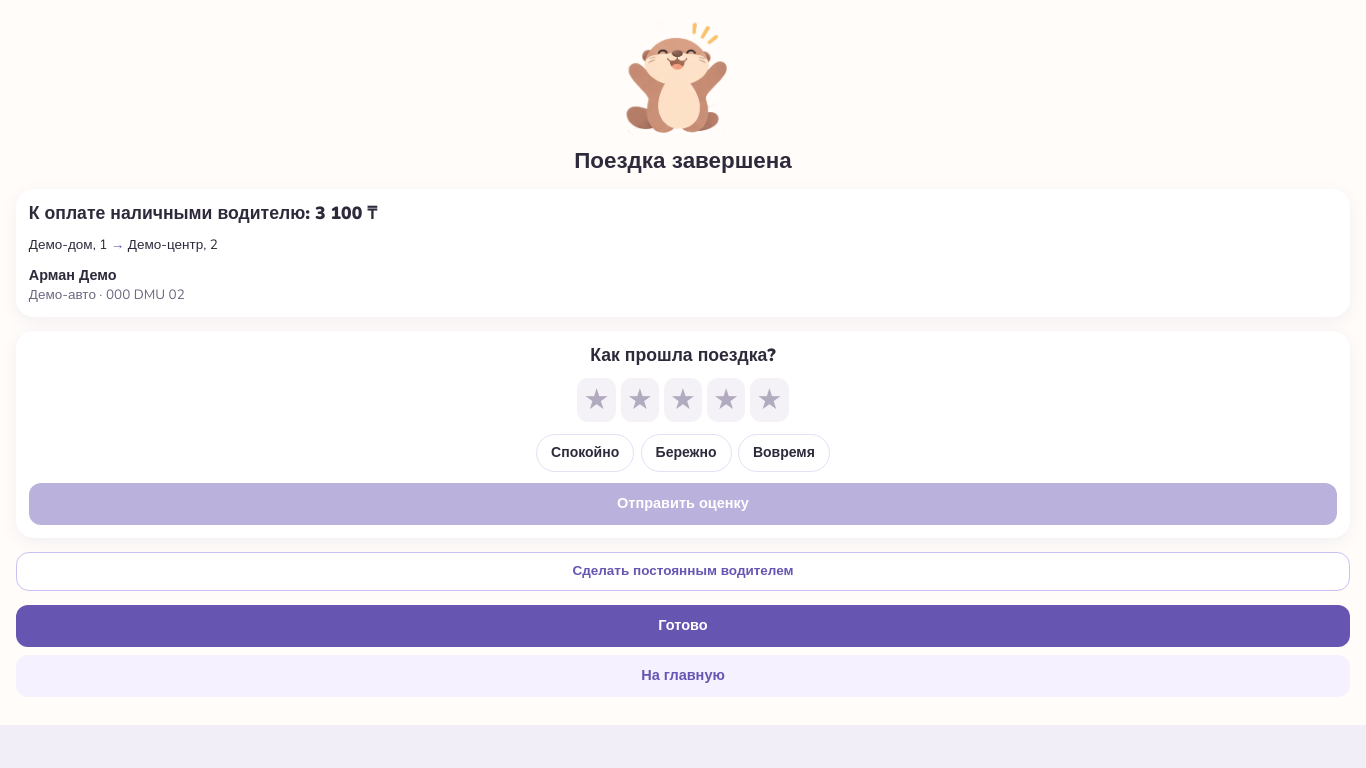
Test: completed trip and rating › sends selected stars and multiple tags, then thanks without form
This screenshot has width=1366, height=768.
Step 1. Click the button named "Оценка: 4 из 5" → [726, 400], box [707, 378, 745, 422]
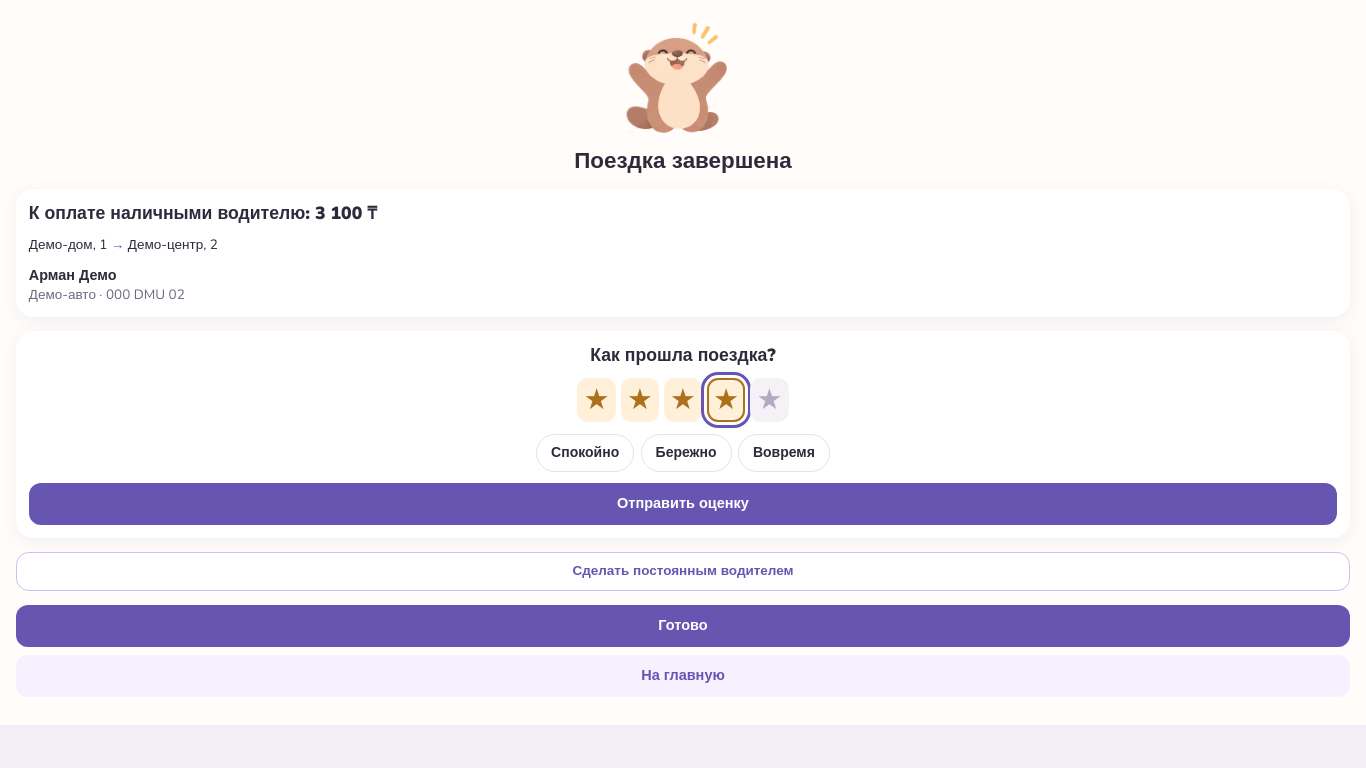
expect the button named "Оценка: 4 из 5" is pressed: met, box [707, 378, 745, 422]
Step 2. Click the button "Спокойно" → [585, 453], box [536, 434, 634, 472]
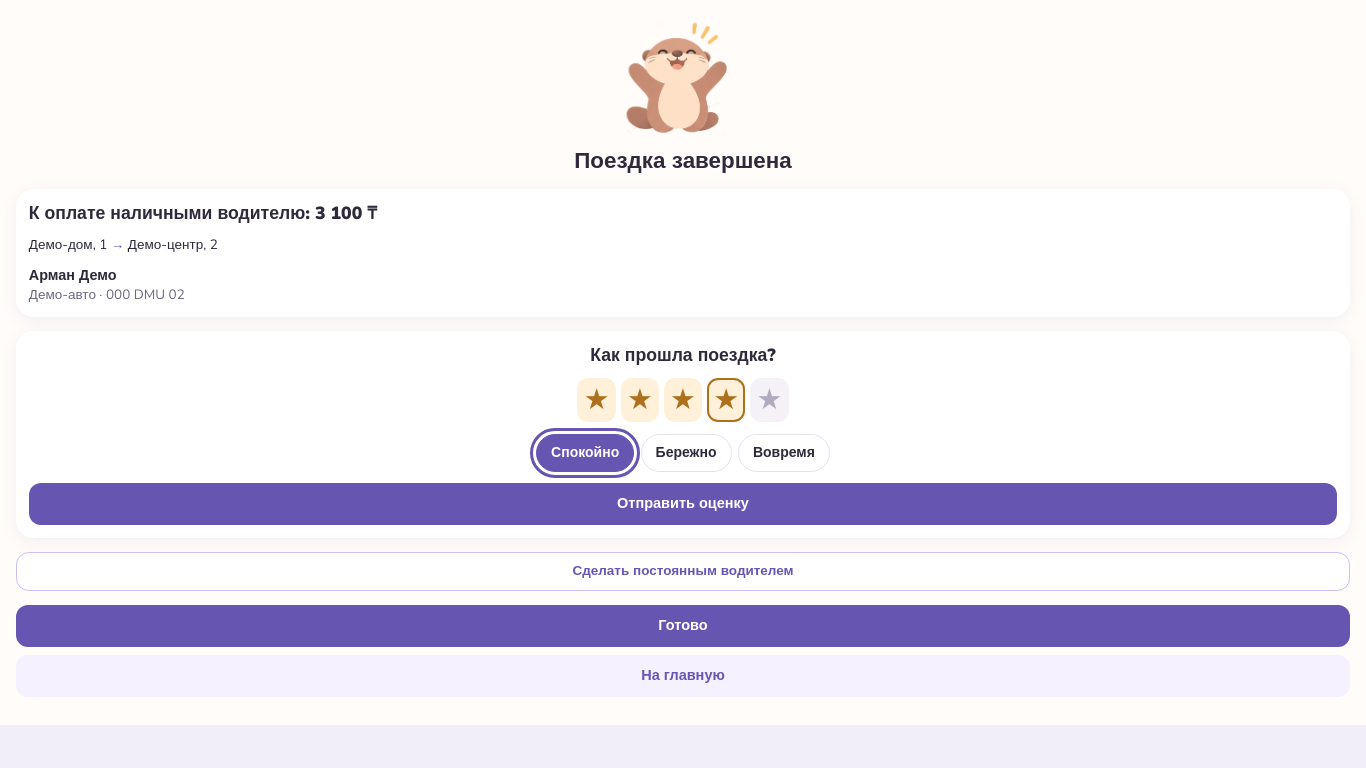
Step 3. Click the button "Бережно" → [686, 453], box [641, 434, 732, 472]
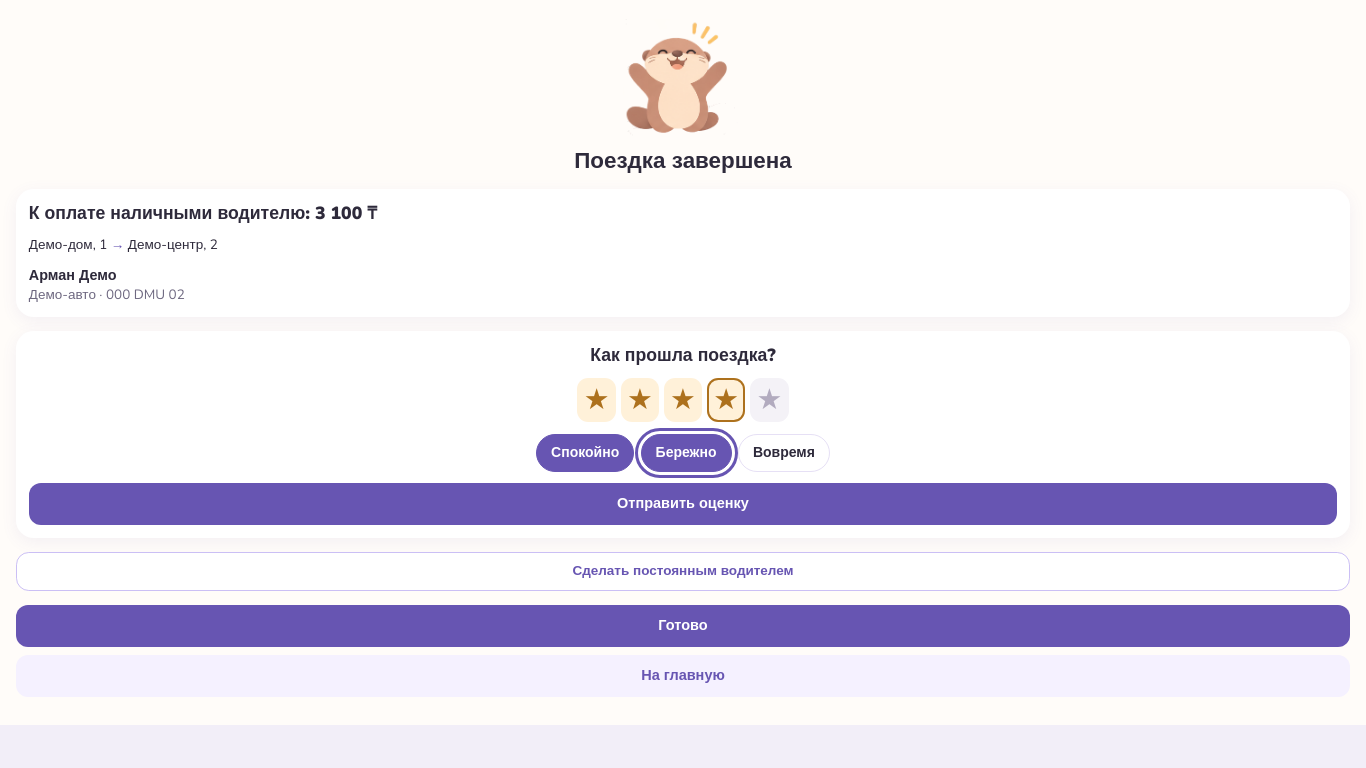
Step 4. Click the button "Вовремя" → [784, 453], box [738, 434, 830, 472]
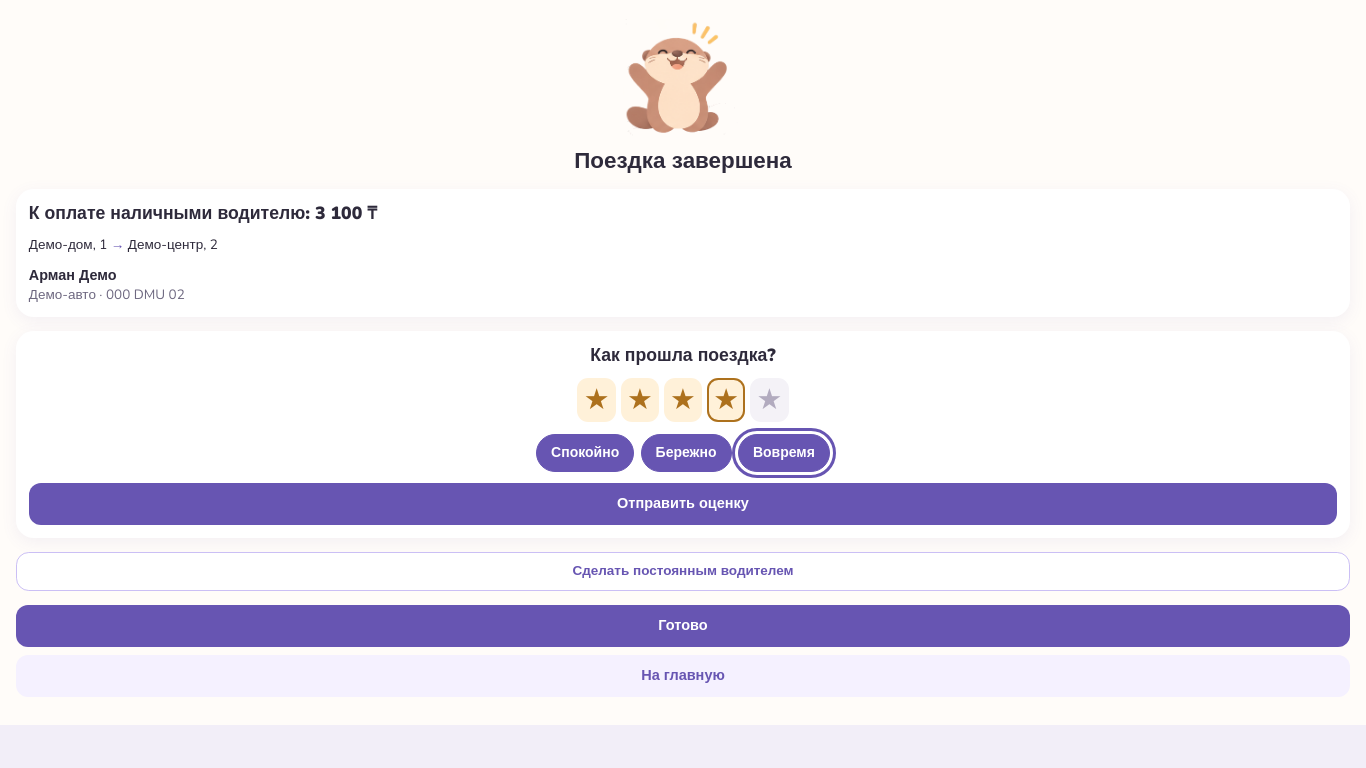
Step 5. Click the button "Бережно" → [686, 453], box [641, 434, 732, 472]
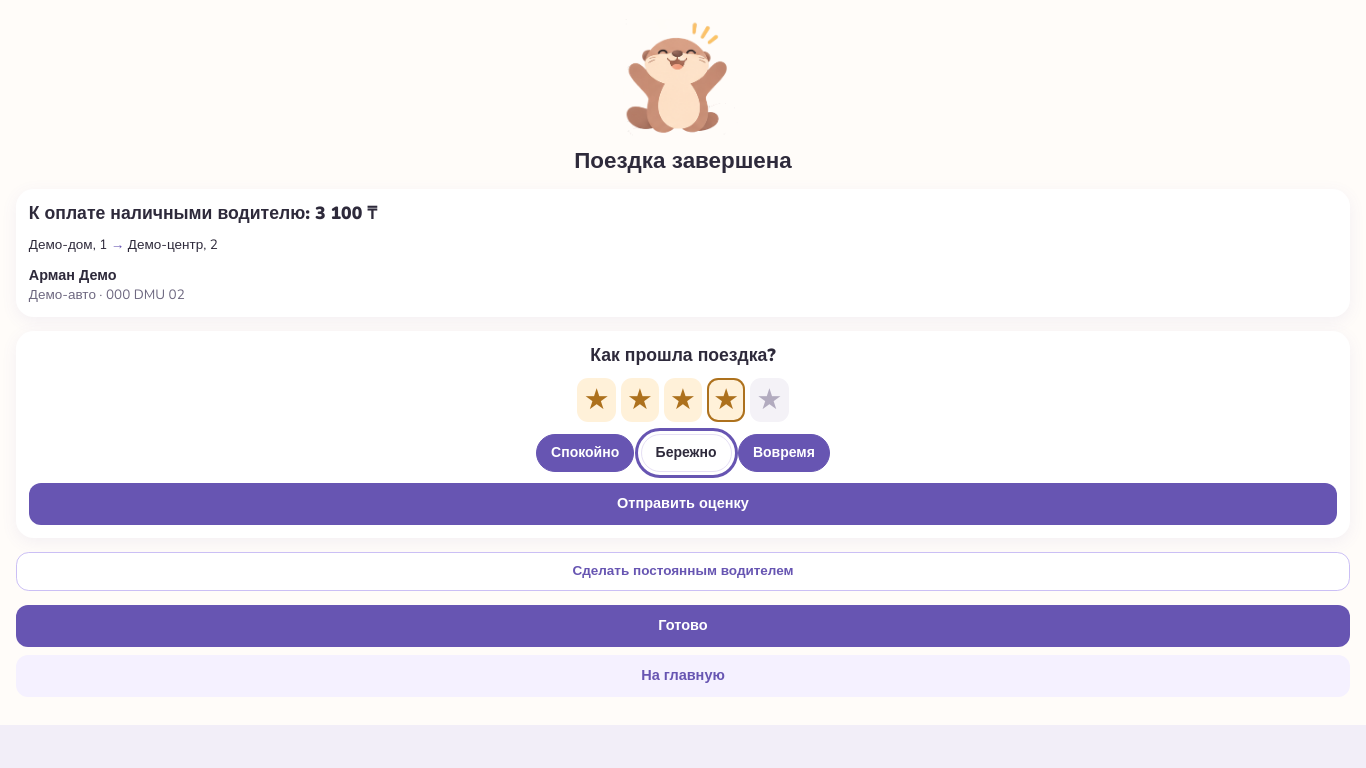
Step 6. Click the button "Отправить оценку" → [683, 504], box [29, 483, 1337, 525]
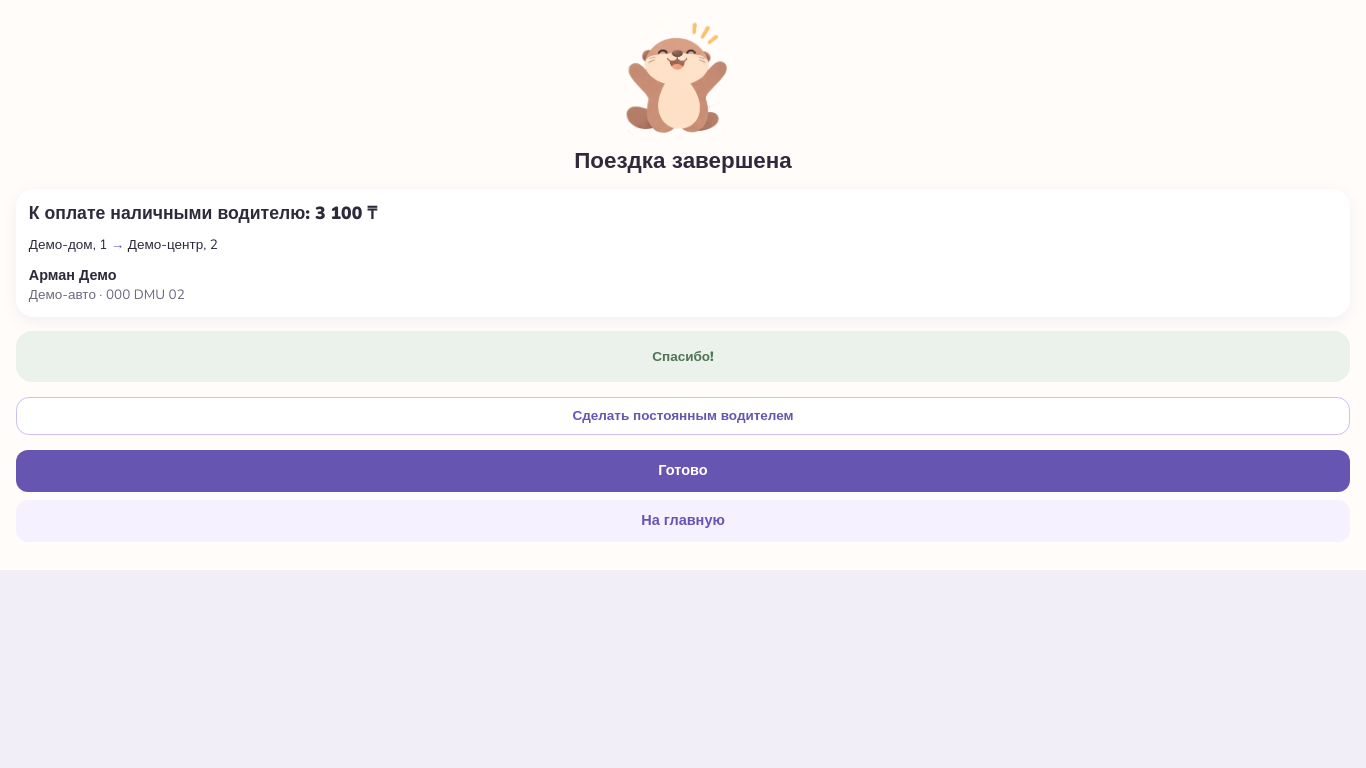
expect the text "Спасибо!" is shown: met, box [16, 331, 1350, 382]
expect the form is gone: met
